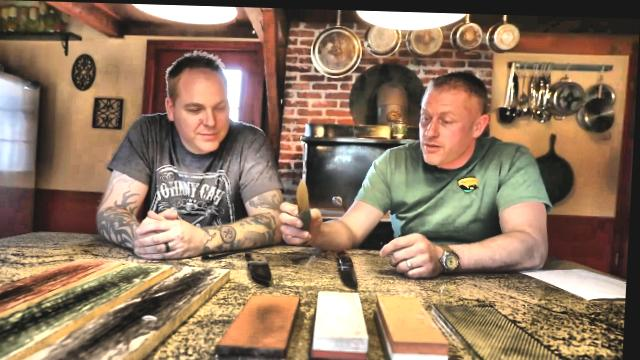knife: (277, 167, 327, 231)
